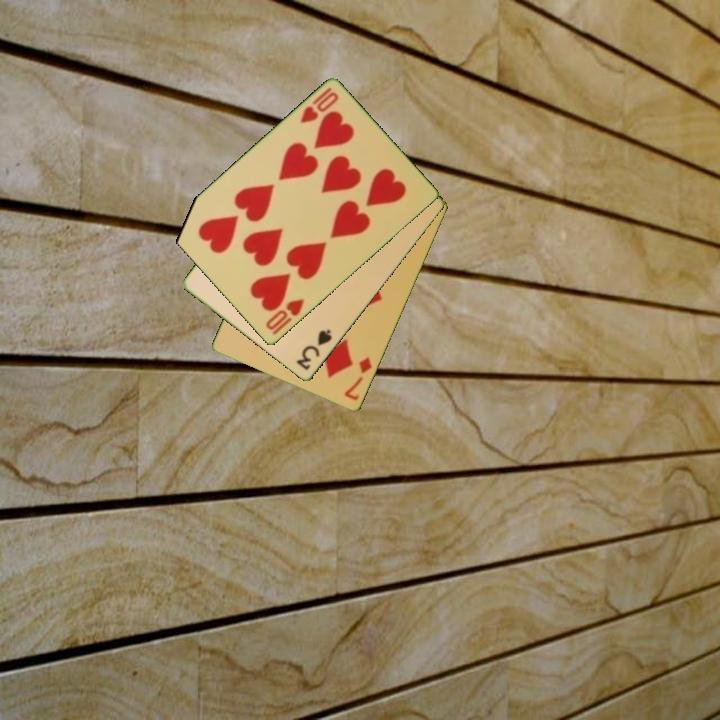10h: (296, 84, 341, 127), (262, 296, 307, 334)
3s: (292, 326, 335, 373)
7d: (341, 353, 375, 404)
